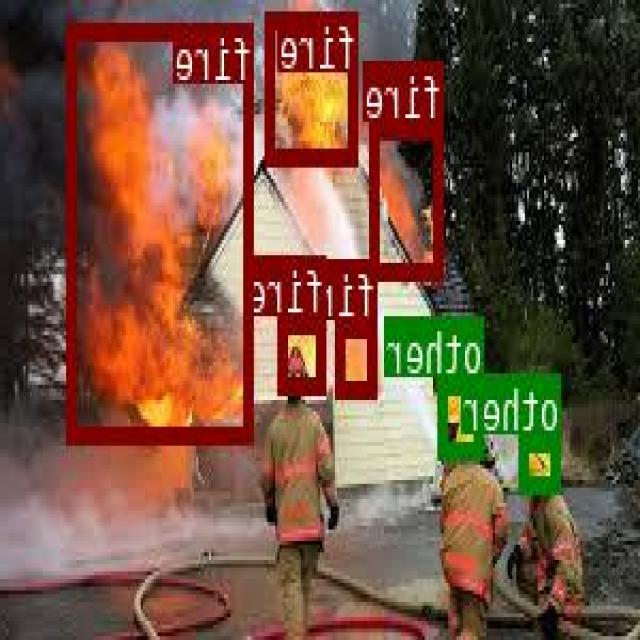fire: (68, 21, 255, 439), (269, 9, 360, 162), (373, 120, 445, 278), (281, 316, 327, 390), (338, 318, 378, 394)
other: (442, 377, 486, 456), (522, 430, 562, 490)
